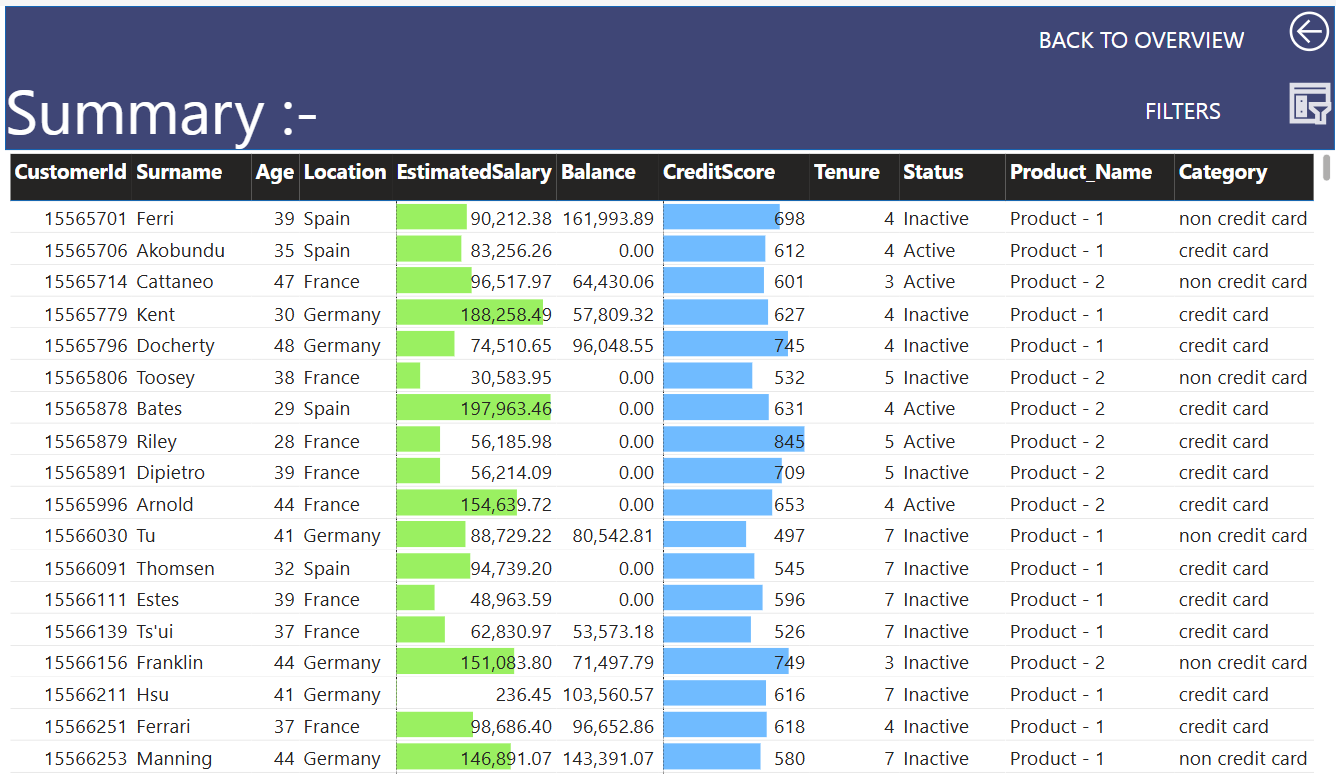

The dashboard page shown, as its layout file describes it:
{"tool":"powerbi","page":{"name":"Summary","canvas":[1550,900],"ordinal":1},"visuals":[{"type":"tableEx","fields":{"Values":["CustomerInfo.CustomerId","CustomerInfo.Surname","Bank_Churn.Age","Geography.GeographyLocation","Bank_Churn.EstimatedSalary","Bank_Churn.Balance","Bank_Churn.CreditScore","Bank_Churn.Tenure","Active customers.ActiveCategory","Products.Product_Name","Credit card.Category"]},"box":[0,167.9,1550.3,732.4],"z":0},{"type":"shape","box":[0,0,1550.3,167.9],"z":1000},{"type":"actionButton","box":[1200.4,0,349.9,59.1],"z":2000},{"type":"actionButton","box":[1324.8,84,225.5,57.5],"z":4000}]}

Visuals, with their boxes in screenshot pixels (x1, y1, x2, y2), scaled from the page's 1550x900 canvas onto the 1336x775 screenshot:
tableEx - CustomerInfo.CustomerId x CustomerInfo.Surname: [0,145,1335,774]
shape: [0,0,1335,145]
actionButton: [1035,0,1335,51]
actionButton: [1142,72,1335,122]
